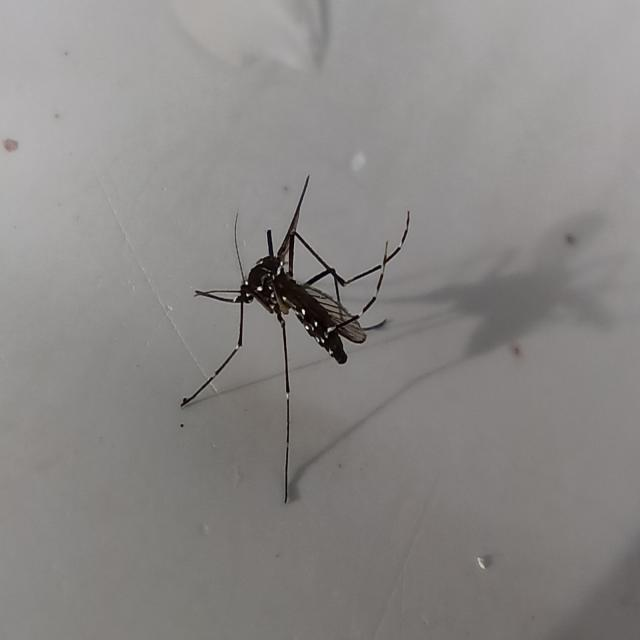albopictus: (184, 166, 409, 492)
